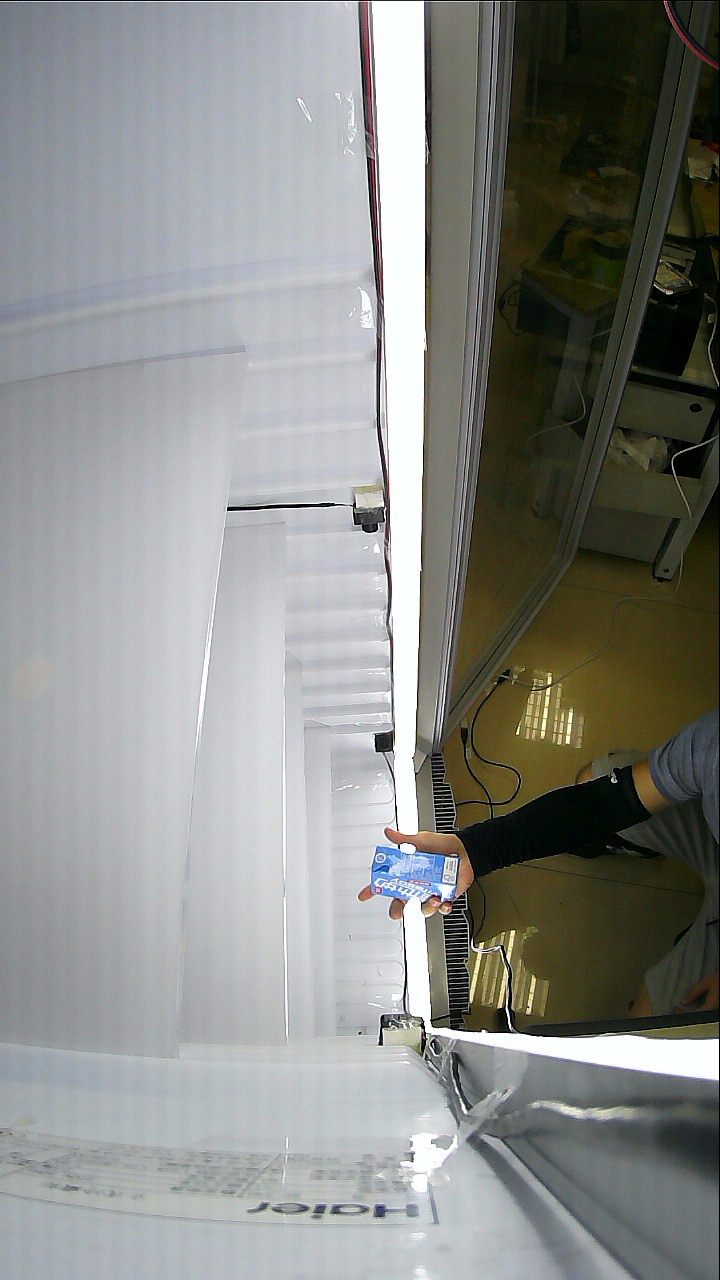VitaSoyOriginal: (363, 828, 480, 921)
